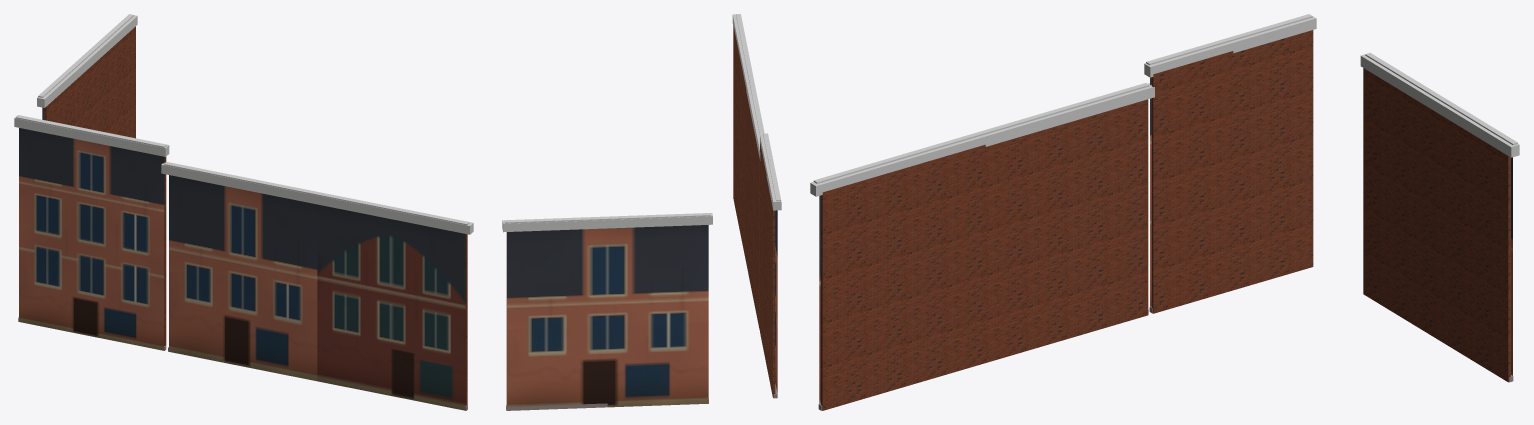
3 views of the same model, side by side, from view 1: azimuth 30°, elevation 25°; view 2: azimuth 150°, elevation 25°; view 3: azimuth 270°, elevation 25° (orthographic). The views are drawn at different scales.
Parts seen in each view (by area): view 1: bldg_6004411712_facade4, bldg_6004411712_facade5, bldg_6004411712_facade6; view 2: bldg_6004411712_facade6, bldg_6004411712_facade4, bldg_6004411712_facade5; view 3: bldg_6004411712_facade4, bldg_6004411712_facade5, bldg_6004411712_facade6.
Boxes of the visible parts, box(x1,y1,x2,y2) form: bldg_6004411712_facade4: box(161, 162, 473, 410); bldg_6004411712_facade5: box(14, 115, 169, 350); bldg_6004411712_facade6: box(37, 14, 137, 138); bldg_6004411712_facade6: box(502, 213, 712, 410); bldg_6004411712_facade4: box(732, 14, 764, 330); bldg_6004411712_facade5: box(760, 133, 781, 398); bldg_6004411712_facade4: box(810, 83, 1154, 410); bldg_6004411712_facade5: box(1144, 14, 1316, 313); bldg_6004411712_facade6: box(1360, 52, 1519, 382).
Bounding box in the file's own units: 11.64 × 8.98 × 23.19.
Materials: 4 (2 with a texture image).
